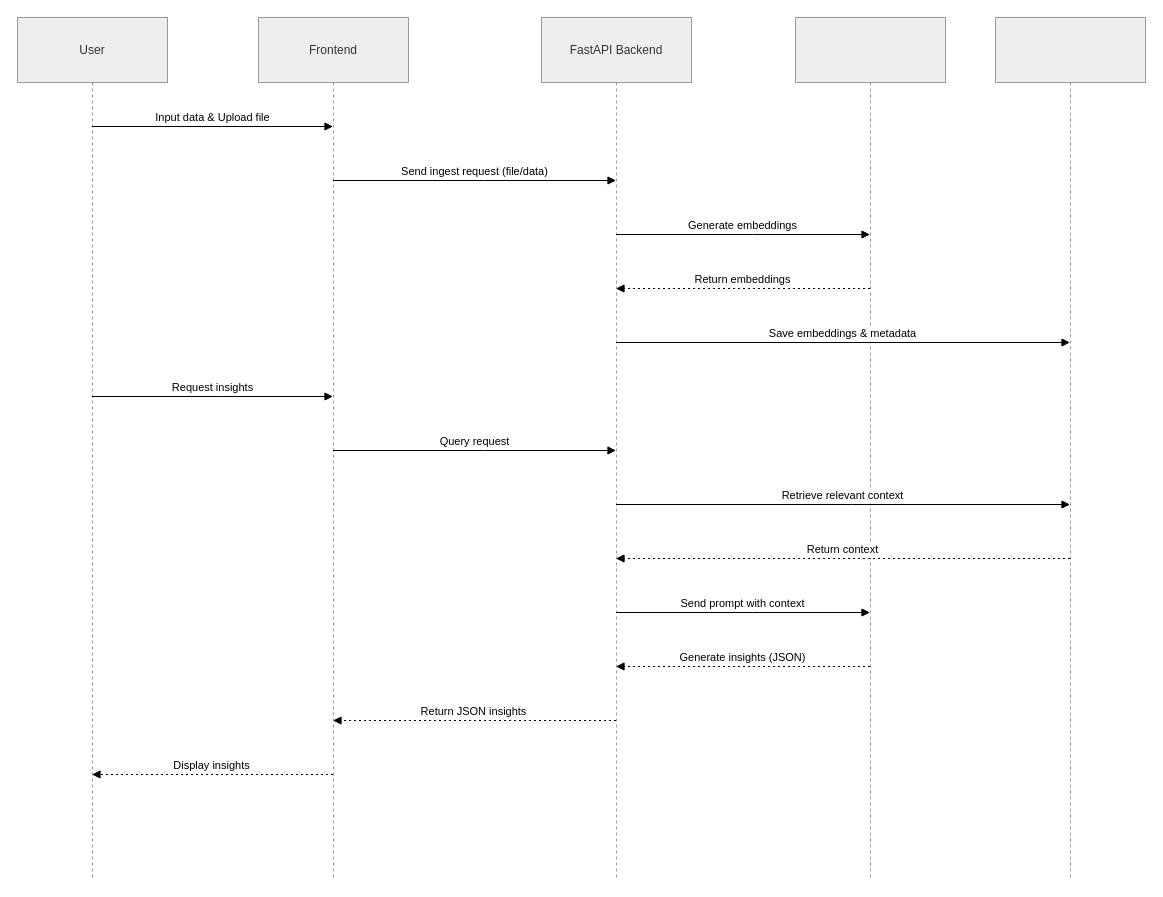
The diagram is 1163 pixels wide and 897 high, and some of its shapes have lost their labels. Here are the shapes that lost their labels. From the top down, the box of each, then its label:
(794, 16, 946, 880): Gemini API
(994, 16, 1146, 880): Qdrant Vector DB
